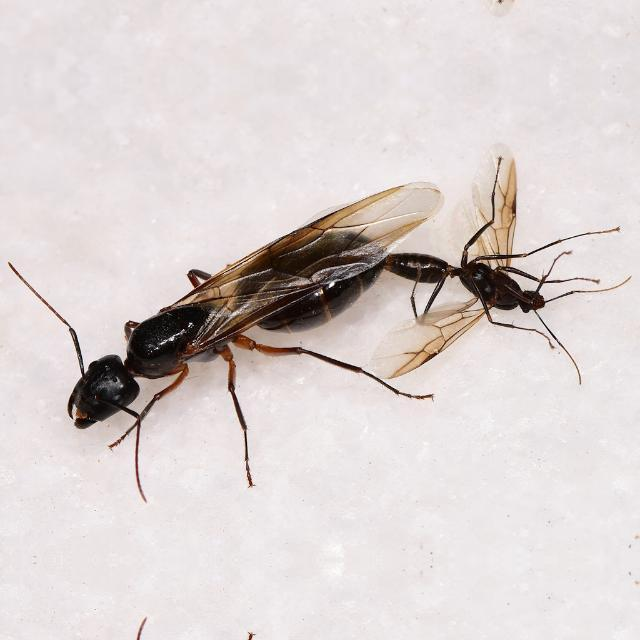Camponotus: (63, 205, 389, 447), (368, 218, 586, 348)
